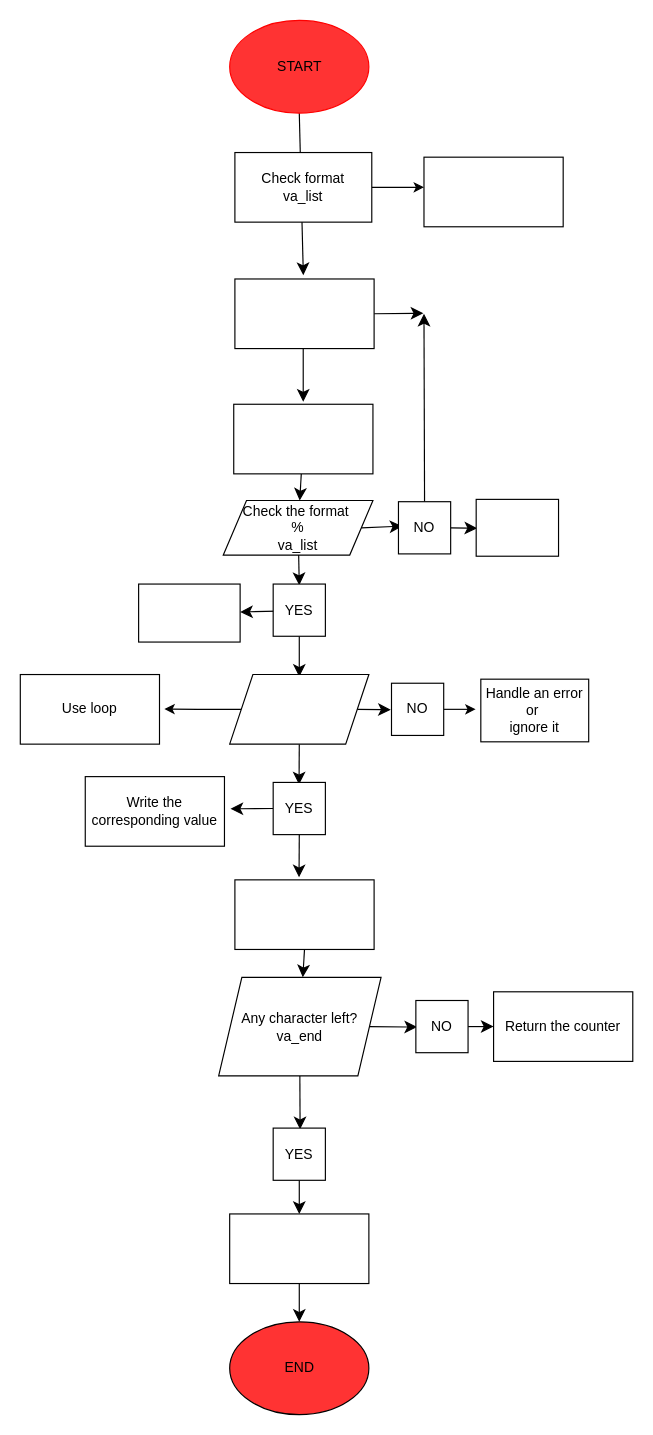
This 653x1435 diagram has some shape labels left out. Each missing label, with the centre of its shape:
"_printf" belongs at point (517, 527).
"Identify the type of specifier" belongs at point (188, 612).
"If NULL return (-1)" belongs at point (493, 191).
"Initialize the displayed character counter to zero" belongs at point (303, 438).
"Is it %c, %s, or %% ?" belongs at point (299, 708).
"Read format string and additional arguments va_start" belongs at point (304, 313).
"Return the counter value" belongs at point (299, 1248).
"Use 'write' to display the value and increment the counter" belongs at point (304, 914).
